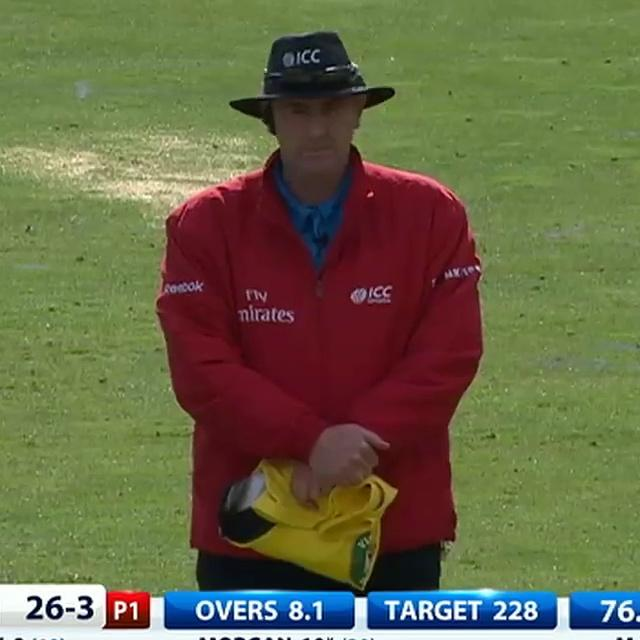umpire: (128, 3, 516, 594)
